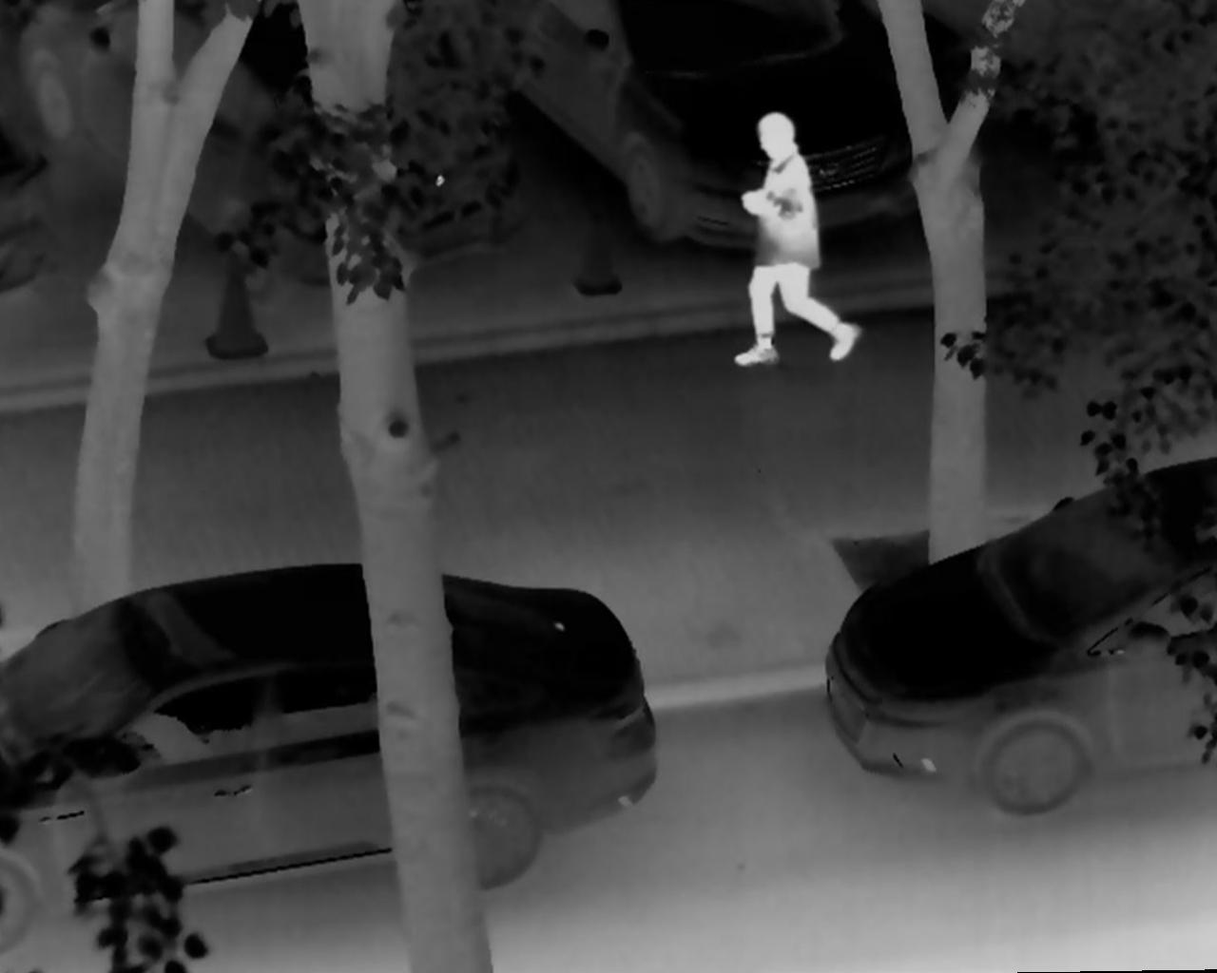person: (719, 109, 865, 372)
